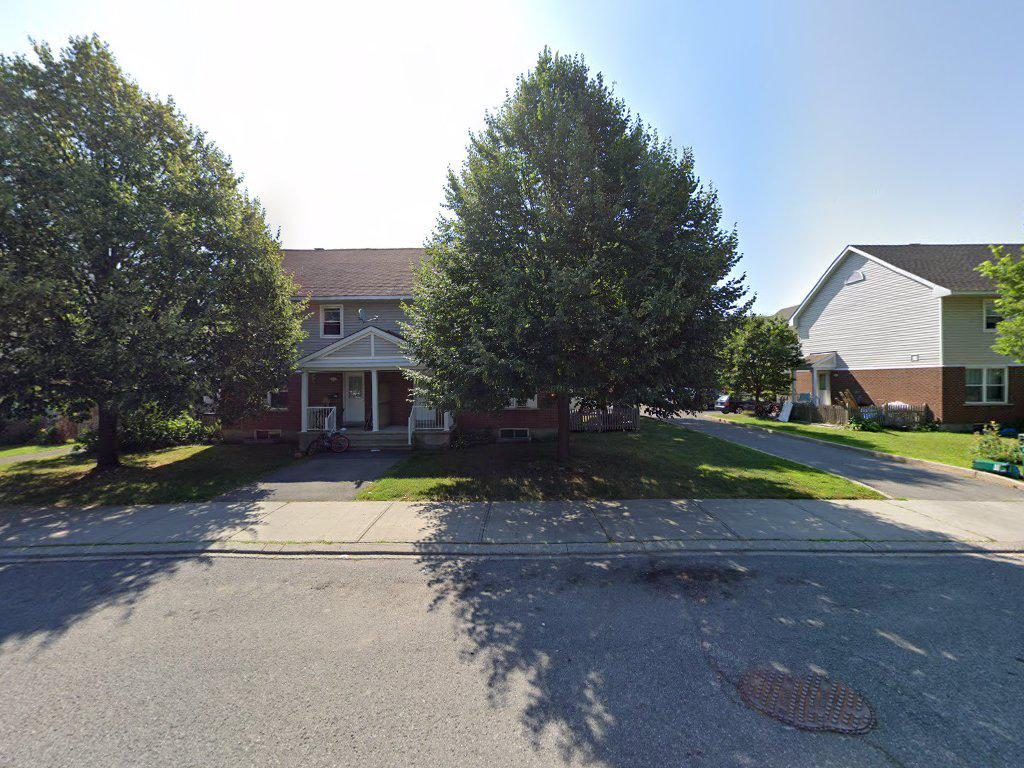trunk: (89, 408, 125, 472), (554, 389, 571, 475)
